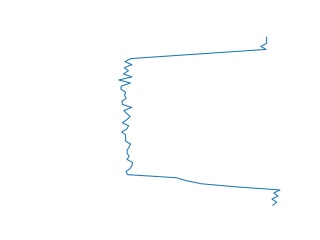distributaryChannelFill: (115, 36, 285, 205)
